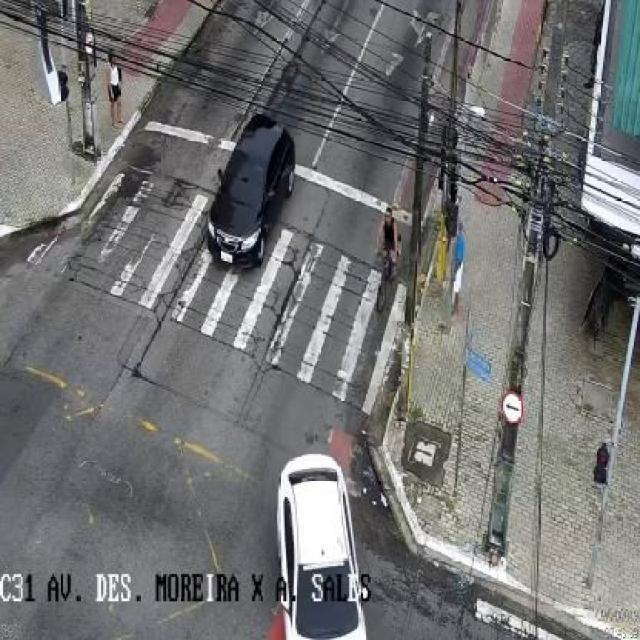Car: (272, 450, 368, 640), (196, 113, 302, 274)
